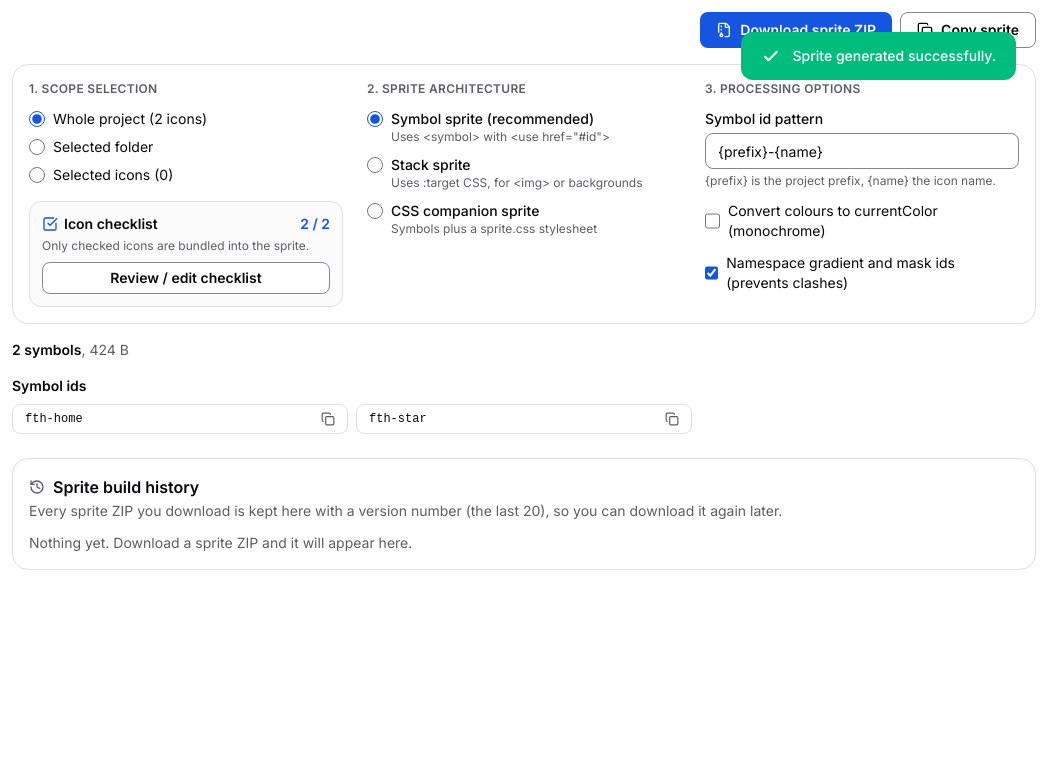
Test: copy and download › says when the clipboard is not available
What coordinates should you click on to do the following:
click the button "Copy sprite"
I would click on:
 (968, 30)
Its box is [900,12,1036,48].
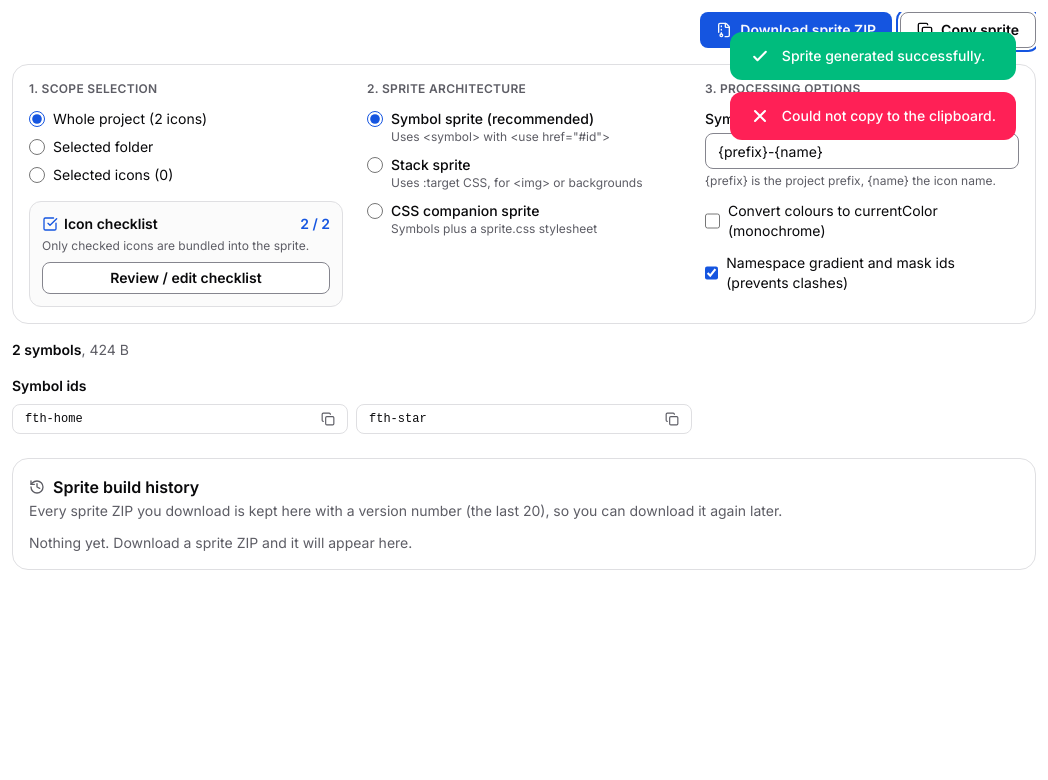
Check: the text "Could not copy to the clipboard." is shown, box [782,106,996,126]
